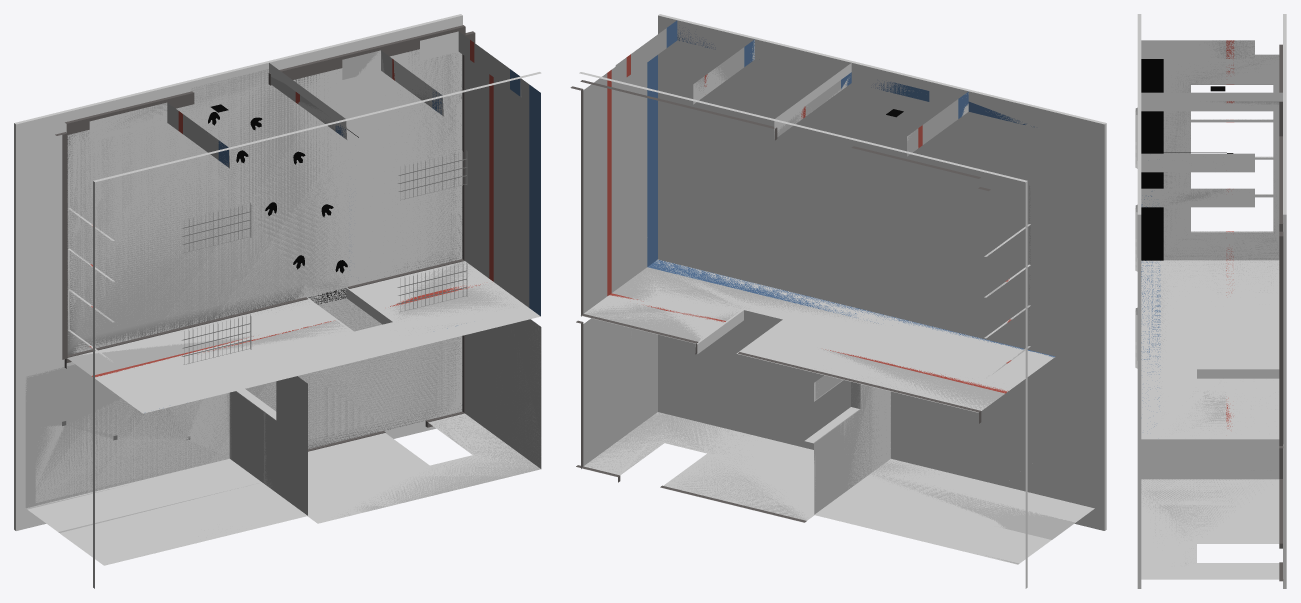
Rendered from fuel_int_gas_station.glb.
The picture shows the model from 3 angles, left to right: view 1: azimuth 30°, elevation 25°; view 2: azimuth 150°, elevation 25°; view 3: azimuth 270°, elevation 25°; orthographic projection. The views are drawn at different scales.
Parts seen in each view (by area): view 1: c_box_02, g_g_lod0, c_mesh_mopp, g_vtxc_lod0, g_tiles_lod0, dm_plaster, dm_tiles, c_box_03; view 2: c_box_03, g_vtxc_lod0, c_mesh_mopp, dm_plaster, g_g_lod0, c_box_01, g_tiles_lod0, c_box_02; view 3: c_mesh_mopp, dm_plaster, g_vtxc_lod0, g_g_lod0, c_box_03, c_box_02.
Part boxes in pixels (bbox=[...]): c_box_02: bbox=[14, 14, 462, 530]; g_g_lod0: bbox=[25, 49, 540, 561]; c_mesh_mopp: bbox=[28, 31, 541, 565]; g_vtxc_lod0: bbox=[55, 25, 541, 468]; g_tiles_lod0: bbox=[28, 366, 261, 504]; dm_plaster: bbox=[60, 50, 540, 564]; dm_tiles: bbox=[35, 368, 263, 560]; c_box_03: bbox=[93, 72, 541, 588]; c_box_03: bbox=[658, 14, 1106, 530]; g_vtxc_lod0: bbox=[570, 20, 1055, 522]; c_mesh_mopp: bbox=[582, 65, 1094, 564]; dm_plaster: bbox=[584, 40, 1059, 538]; g_g_lod0: bbox=[586, 109, 1075, 564]; c_box_01: bbox=[677, 20, 1046, 130]; g_tiles_lod0: bbox=[815, 375, 846, 513]; c_box_02: bbox=[579, 72, 1027, 588]; c_mesh_mopp: bbox=[1141, 40, 1282, 579]; dm_plaster: bbox=[1141, 41, 1281, 478]; g_vtxc_lod0: bbox=[1141, 40, 1283, 581]; g_g_lod0: bbox=[1135, 59, 1272, 564]; c_box_03: bbox=[1137, 14, 1141, 588]; c_box_02: bbox=[1283, 14, 1286, 588].
Size of what is drawn, in the model's own units: 11.77 by 10.02 by 3.66.
